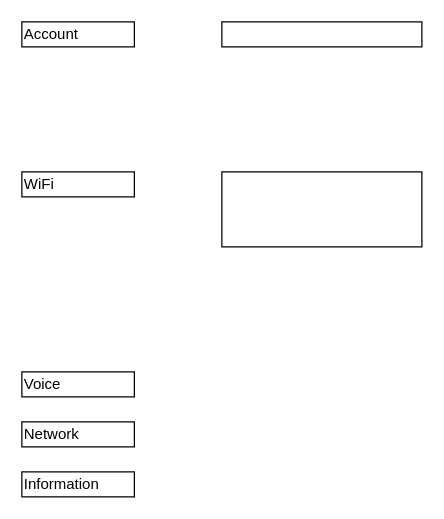
Image size: 444x519. Some labels were removed from this diagram. Each missing label, with the centre of its shape:
"1. 2.4G, 5G設定 2. 認證(authehtication)與加密方式(Encryption)" goes at (321,209).
"1. 修改使用者帳號，密碼" goes at (321,34).
